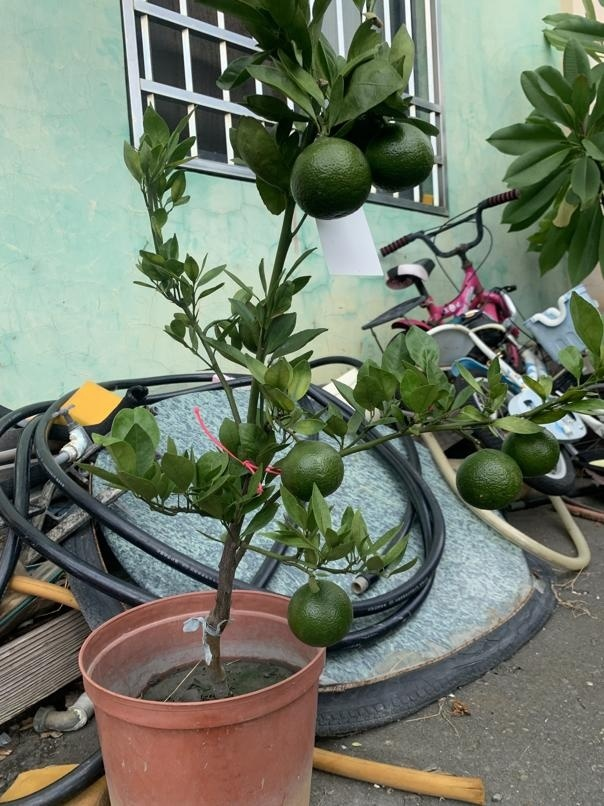Tangerine: (289, 133, 374, 219), (362, 119, 436, 195), (285, 578, 356, 648), (456, 444, 523, 510), (282, 440, 344, 503)
